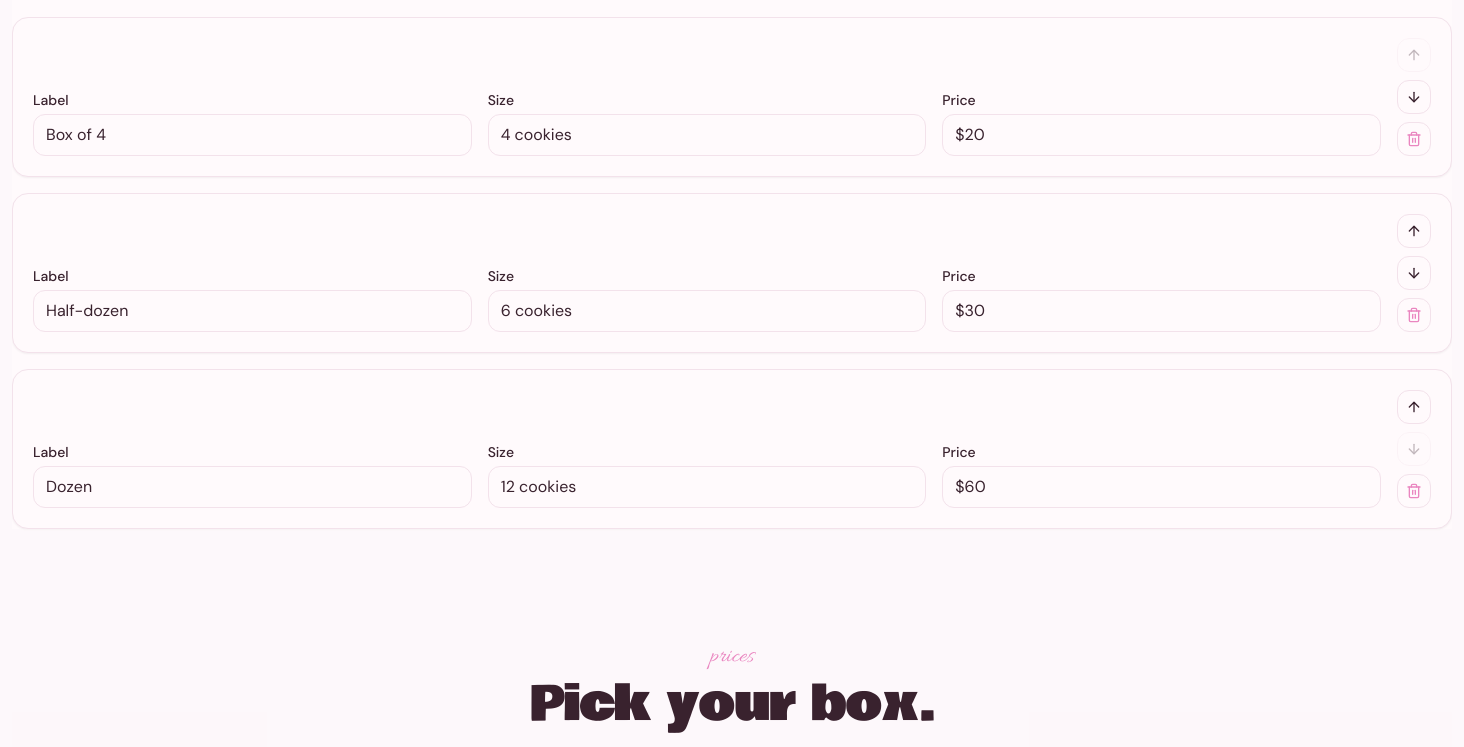
Scenario: contract: Pricing editor ↔ Pricing public component › editing a tier size propagates
The width and height of the screenshot is (1464, 747).
Type "4 jumbos" into the 1st field showing "4 cookies" at (707, 135), box [488,114,926,156]
(page scrolled)
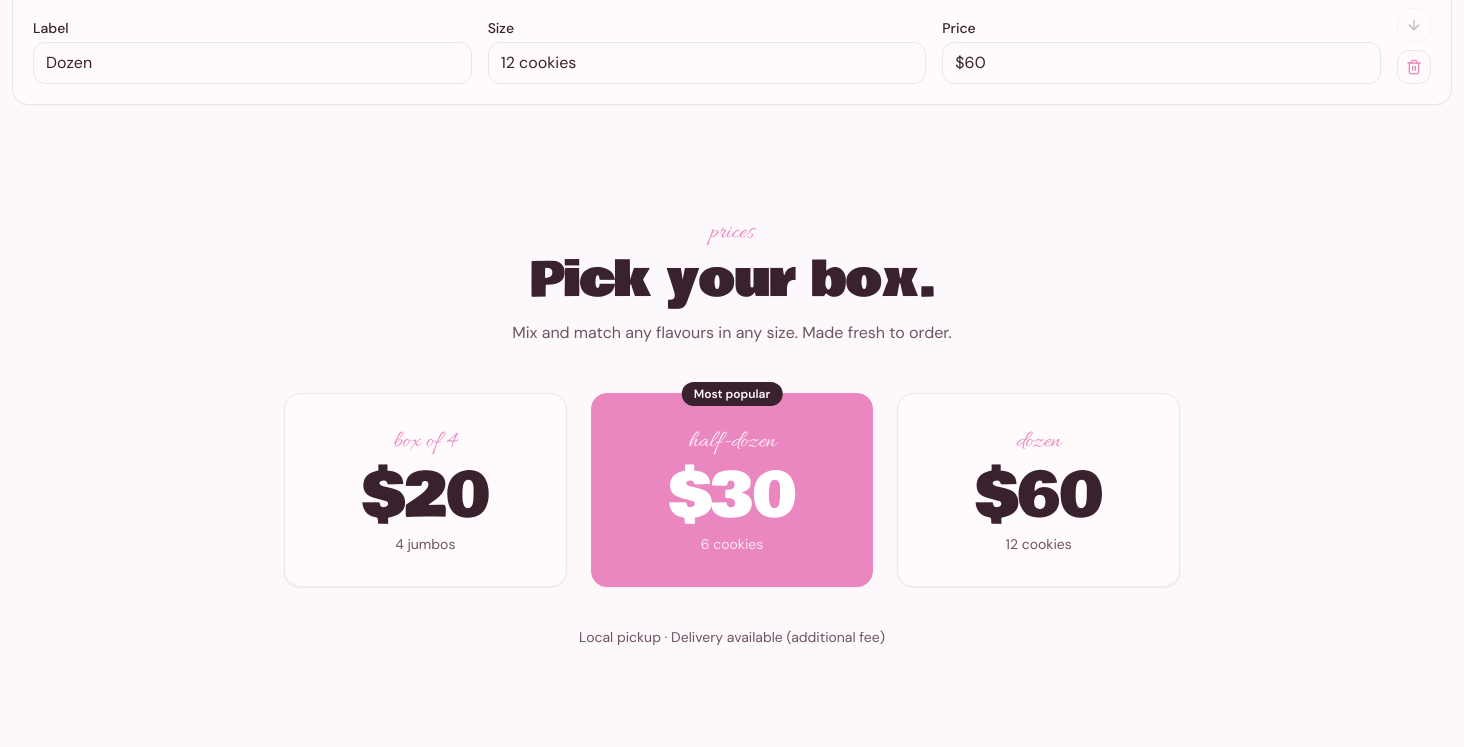
Now the text "4 jumbos" is shown, box [395,535,455,553]
